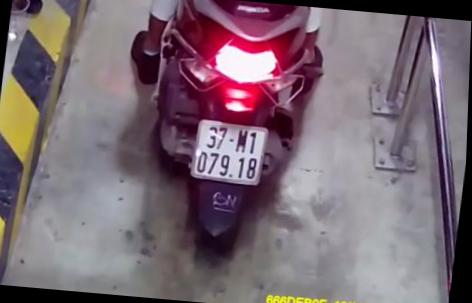LP: (192, 117, 271, 188)
